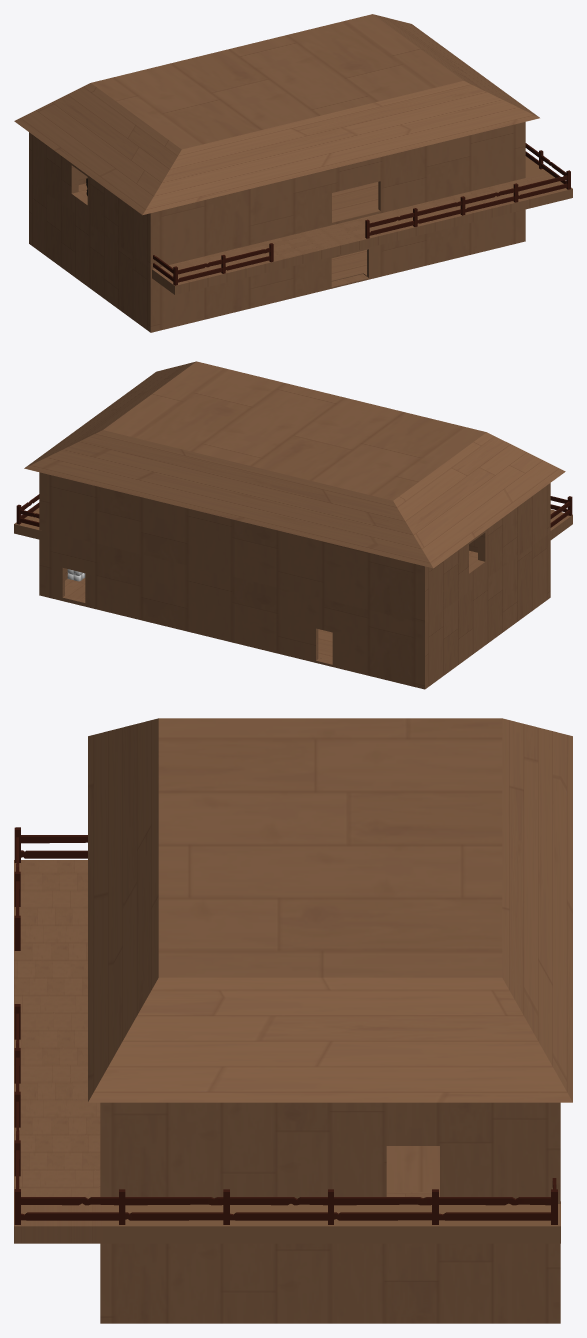
The picture shows the model from 3 angles, top to bottom: view 1: azimuth 30°, elevation 25°; view 2: azimuth 150°, elevation 25°; view 3: azimuth 270°, elevation 25°; orthographic projection. The views are drawn at different scales.
Parts seen in each view (by area): view 1: Cube.011, Cube.006, Cube, Plane, Fence_Cube.003, Fence_Cube.002, Fence_Cube.057, Fence_Cube.004; view 2: Cube.011, Cube, Cube.006, Plane, Cube.003; view 3: Cube.011, Cube.006, Plane, Cube, Fence_Cube.004, Fence_Cube.005, Fence_Cube.006, Fence_Cube.008, Fence_Cube.057, Fence_Cube.002.
Part boxes in pixels (left/top/right/bottom): Cube.011: left=14, top=14, right=539, bottom=215; Cube.006: left=29, top=122, right=525, bottom=268; Cube: left=29, top=177, right=525, bottom=332; Plane: left=152, top=156, right=572, bottom=294; Fence_Cube.003: left=460, top=170, right=570, bottom=215; Fence_Cube.002: left=365, top=196, right=465, bottom=238; Fence_Cube.057: left=174, top=243, right=273, bottom=285; Fence_Cube.004: left=525, top=143, right=566, bottom=183; Cube.011: left=24, top=361, right=565, bottom=568; Cube: left=39, top=529, right=550, bottom=689; Cube.006: left=39, top=472, right=550, bottom=623; Plane: left=14, top=508, right=572, bottom=540; Cube.003: left=63, top=568, right=85, bottom=601; Cube.011: left=88, top=718, right=572, bottom=1102; Cube.006: left=100, top=1102, right=560, bottom=1203; Plane: left=14, top=860, right=560, bottom=1243; Cube: left=100, top=1202, right=560, bottom=1323; Fence_Cube.004: left=20, top=1189, right=229, bottom=1224; Fence_Cube.005: left=224, top=1189, right=438, bottom=1224; Fence_Cube.006: left=432, top=1189, right=557, bottom=1224; Fence_Cube.008: left=16, top=827, right=87, bottom=862; Fence_Cube.057: left=14, top=827, right=20, bottom=950; Fence_Cube.002: left=14, top=1004, right=20, bottom=1127.
Size of the model in its own units: 121 by 45.37 by 75.84.
